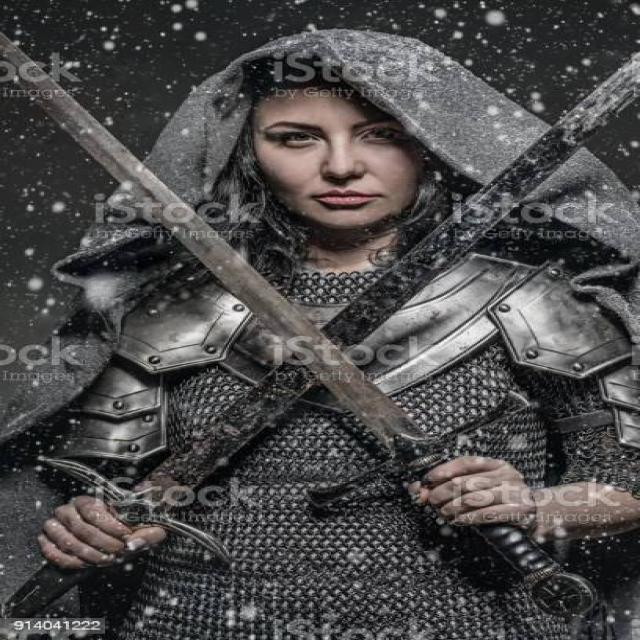long sword: (0, 19, 640, 636)
